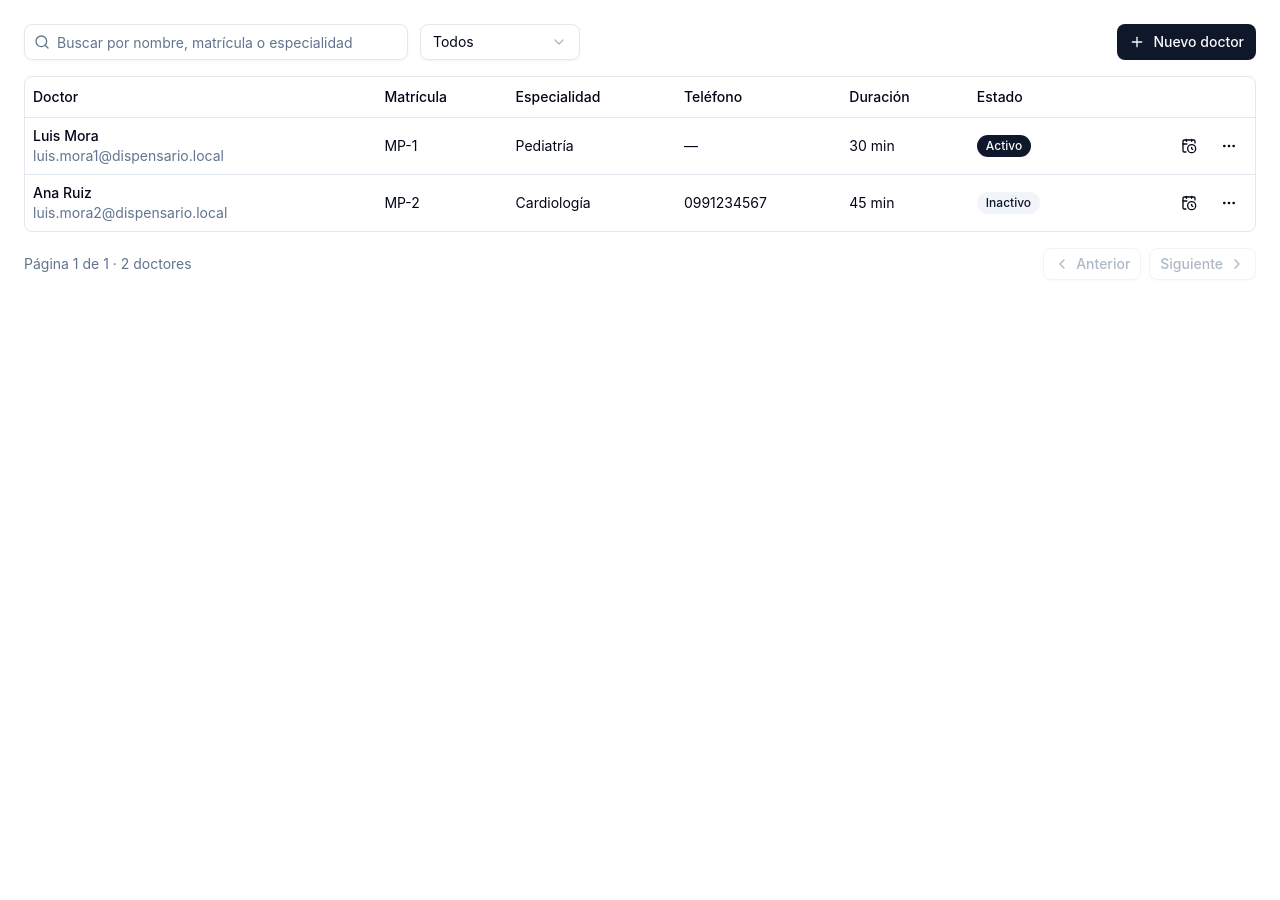
Test case: DoctorsPage › creates a doctor and refreshes the list
Expected: the text "Luis Mora" is shown, [33,126,99,144]
Click the button "Nuevo doctor" at [1187, 42], box [1117,24,1256,60]
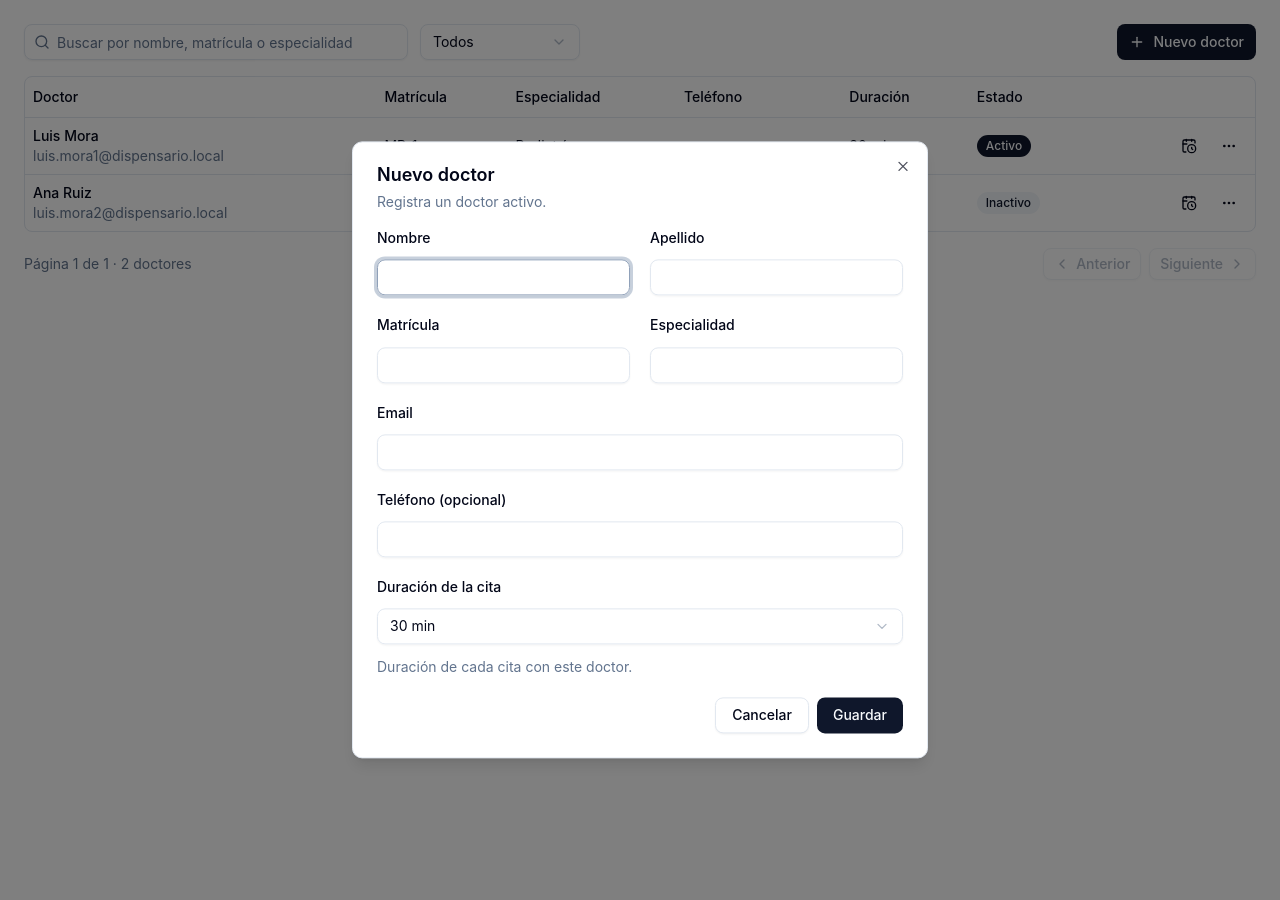
Type "Eva" into the field labelled "Nombre" at [504, 278], box [377,260,630,296]
Type "Paz" into the field labelled "Apellido" at [776, 278], box [650,260,903,296]
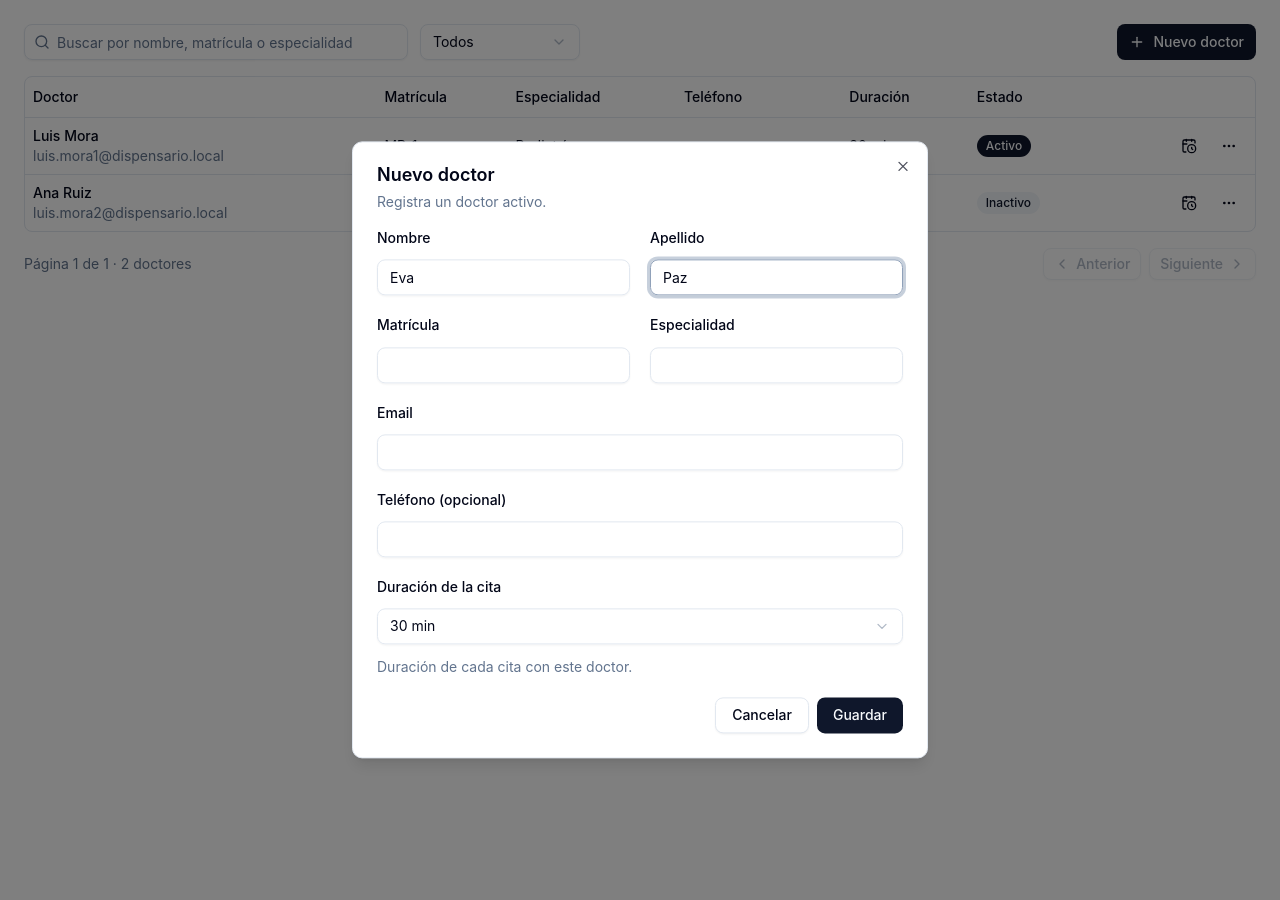
Type "mg-9" into the field labelled "Matrícula" at [504, 365], box [377,347,630,383]
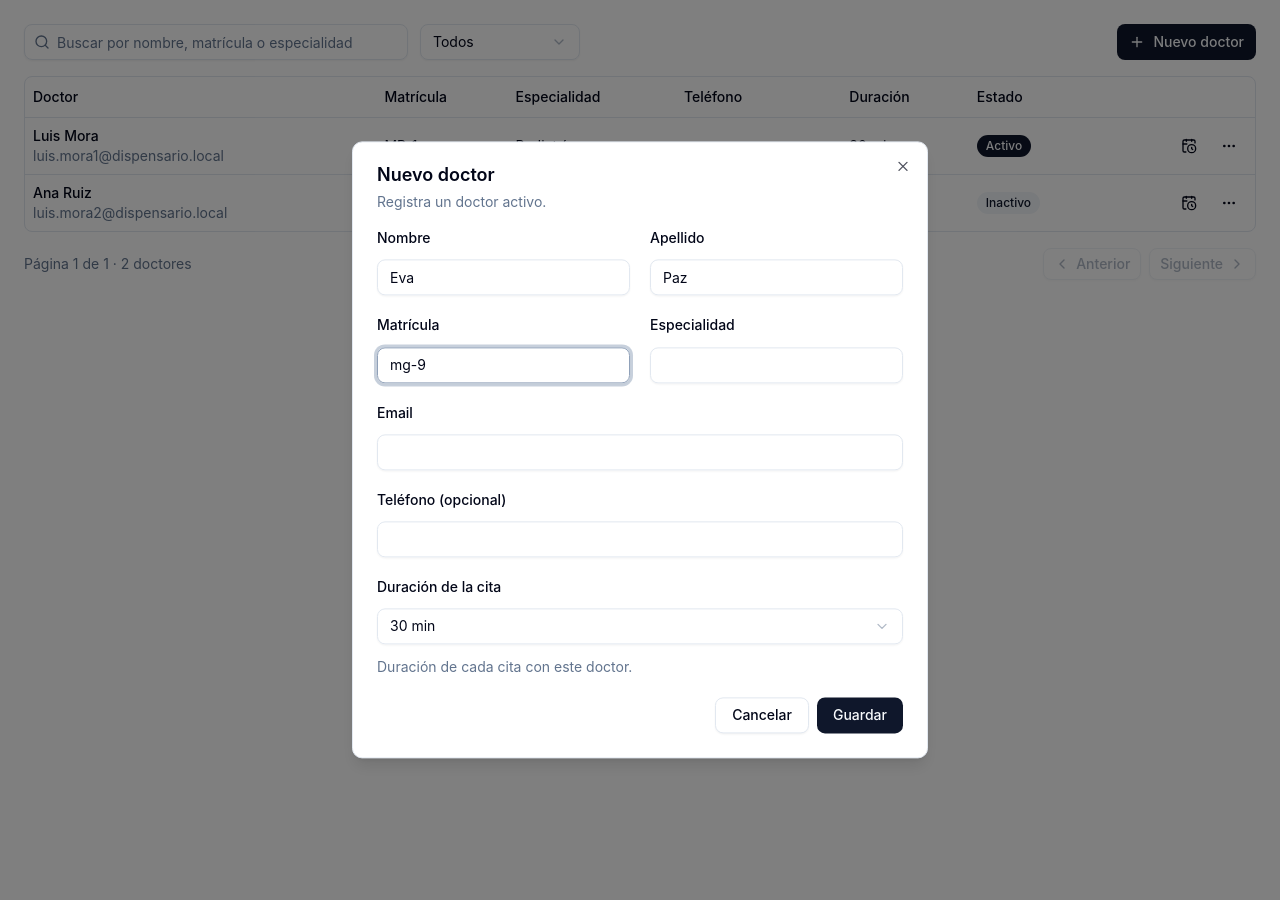
Type "Medicina General" into the field labelled "Especialidad" at [776, 365], box [650,347,903,383]
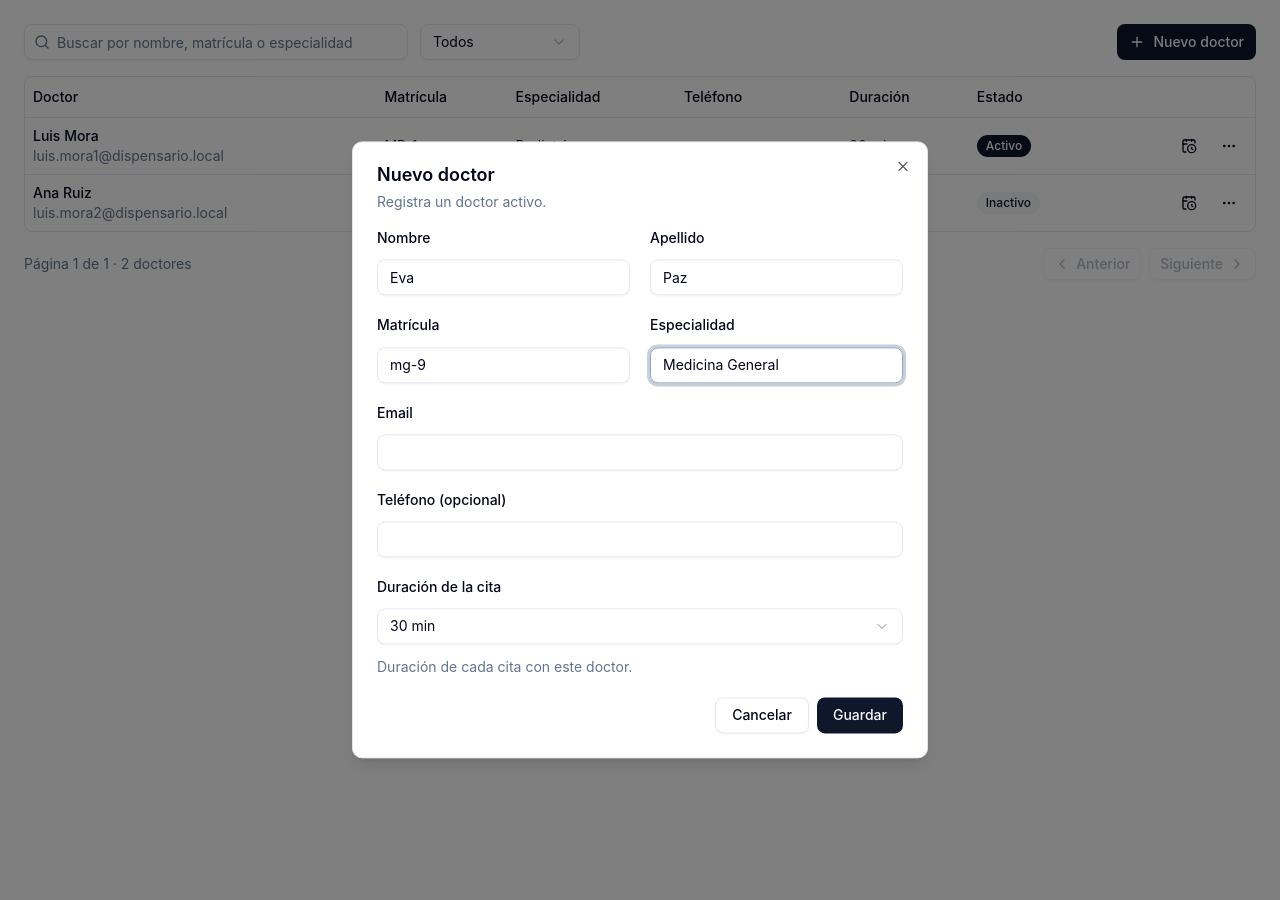
Type "eva.paz@dispensario.local" into the field labelled "Email" at [640, 452], box [377,434,903,470]
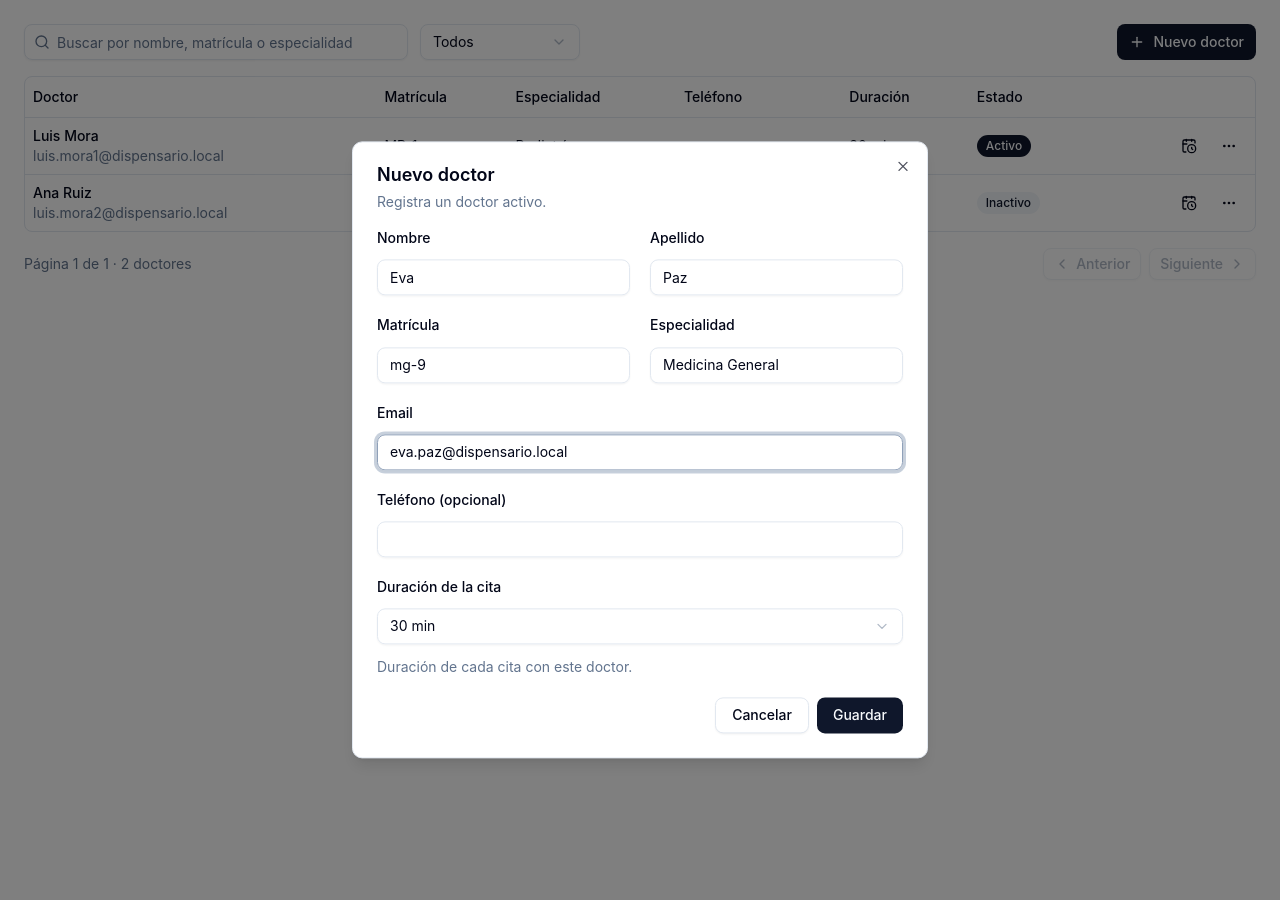
Click the button "Guardar" at [860, 716], box [817,698,903,734]
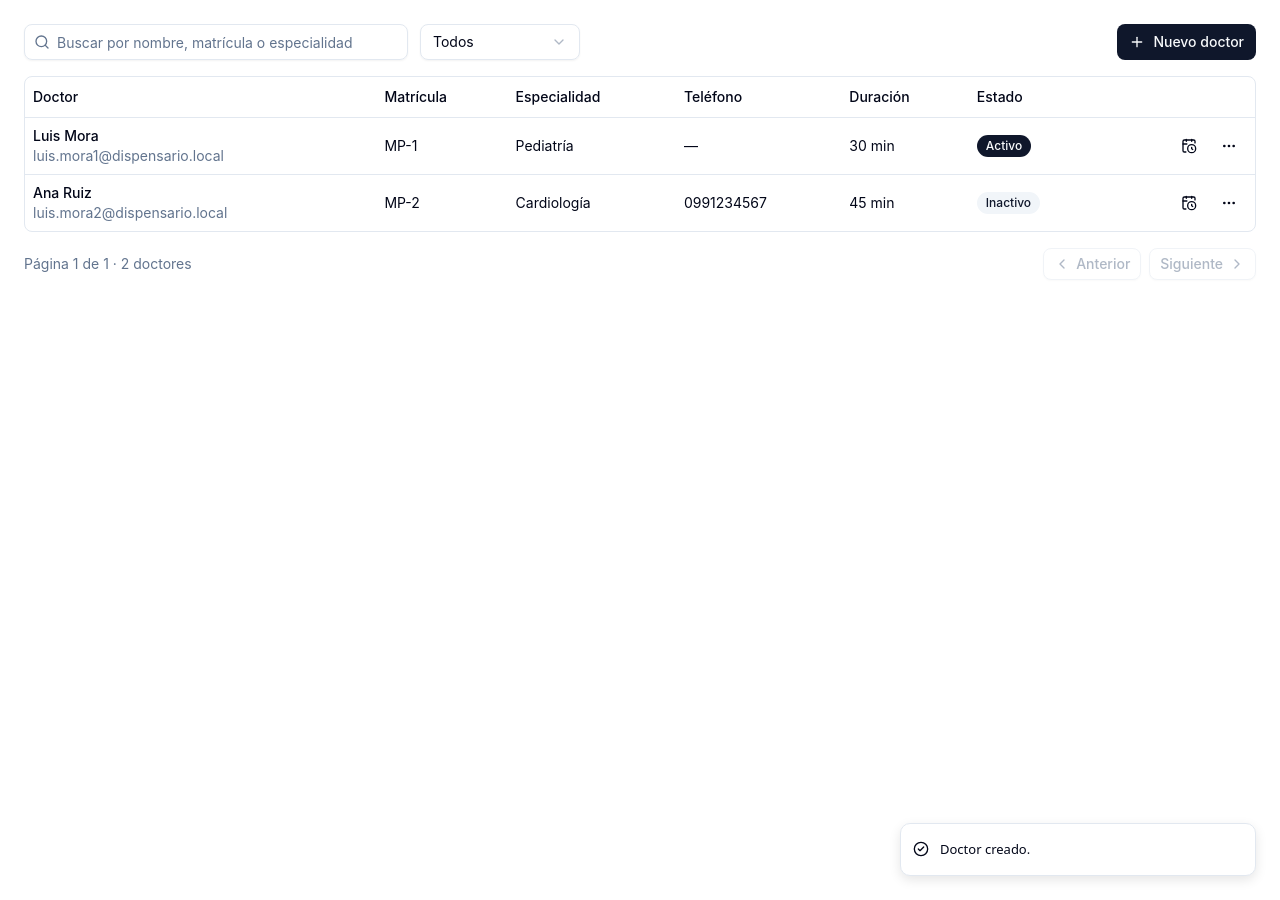
Expected: the text "Doctor creado." is shown, [940,840,1030,859]
Expected: the dialog is gone
